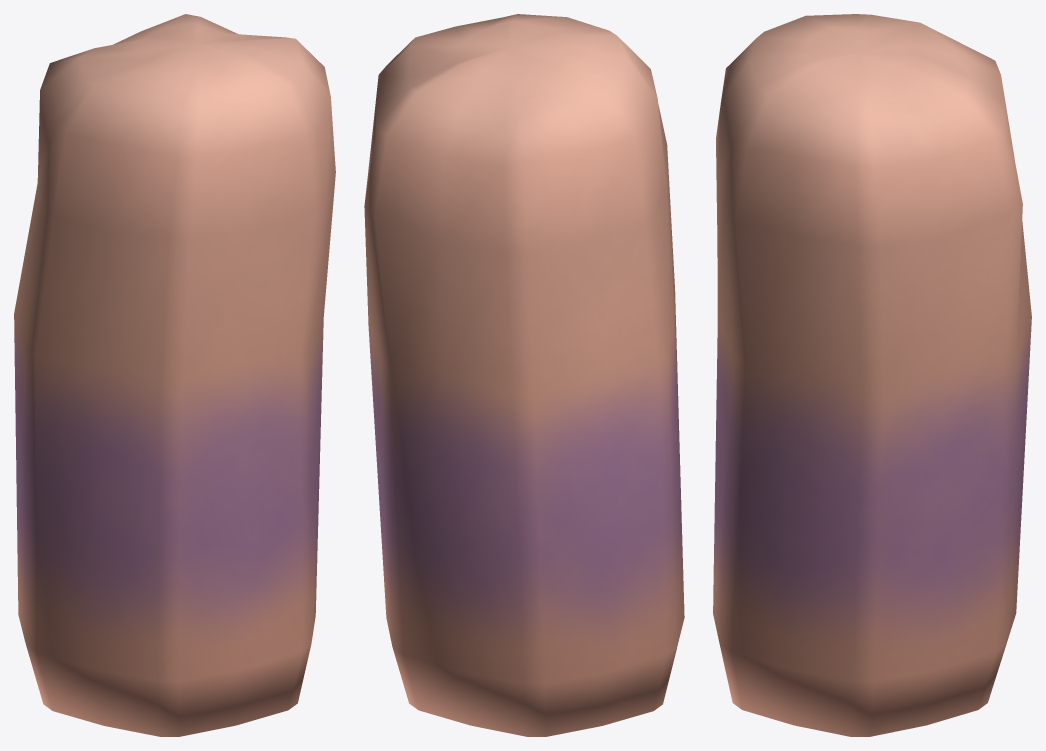
The model's file is Cell_MutantStatic.fbx.
3 renders of one model, left to right at view 1: azimuth 30°, elevation 25°; view 2: azimuth 150°, elevation 25°; view 3: azimuth 270°, elevation 25°, orthographic.
Visible parts, largest first — view 1: Cell_MutantStatic; view 2: Cell_MutantStatic; view 3: Cell_MutantStatic.
Part boxes in pixels (x1,y1,x2,y2): Cell_MutantStatic: [14, 14, 335, 736]; Cell_MutantStatic: [364, 14, 684, 736]; Cell_MutantStatic: [713, 14, 1031, 736].
Bounding box in the file's own units: 0.8164 × 1.65 × 0.7483.
